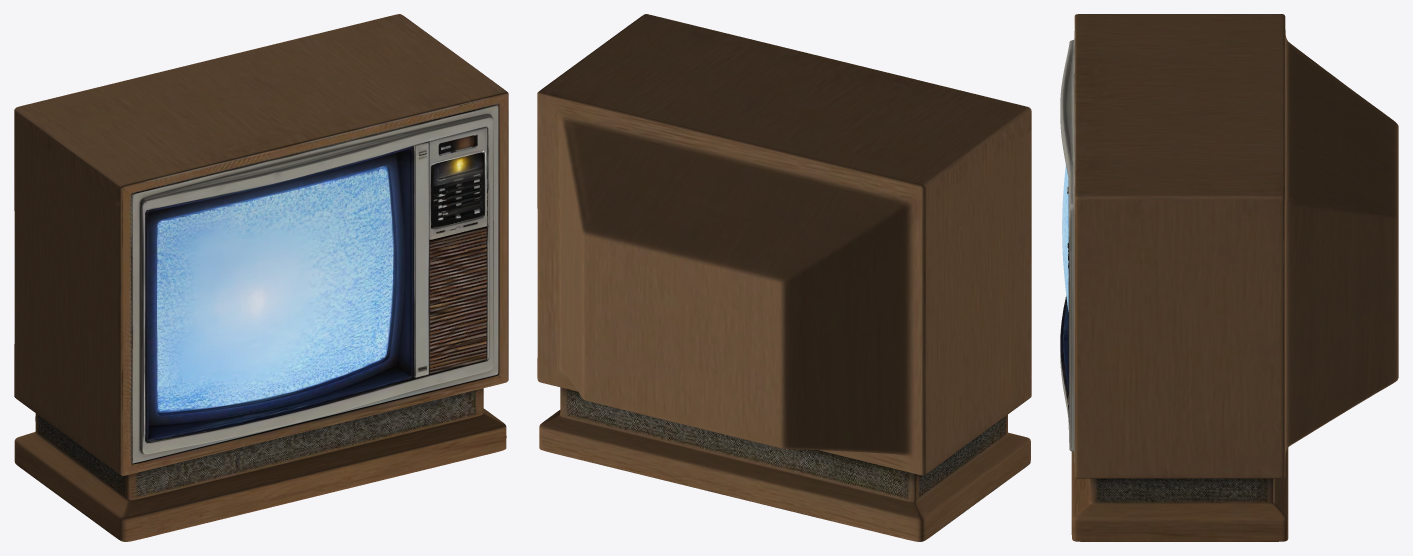
3 views of the same model, side by side, from view 1: azimuth 30°, elevation 25°; view 2: azimuth 150°, elevation 25°; view 3: azimuth 270°, elevation 25° (orthographic). The views are drawn at different scales.
Visible parts, largest first — view 1: node_0; view 2: node_0; view 3: node_0.
Boxes of the visible parts, <box> form: node_0: <box>14,14,508,541</box>; node_0: <box>537,14,1031,541</box>; node_0: <box>1060,14,1398,541</box>.
Bounding box in the file's own units: 80.11 × 70.18 × 62.17.
Materials: 1 (1 with a texture image).
